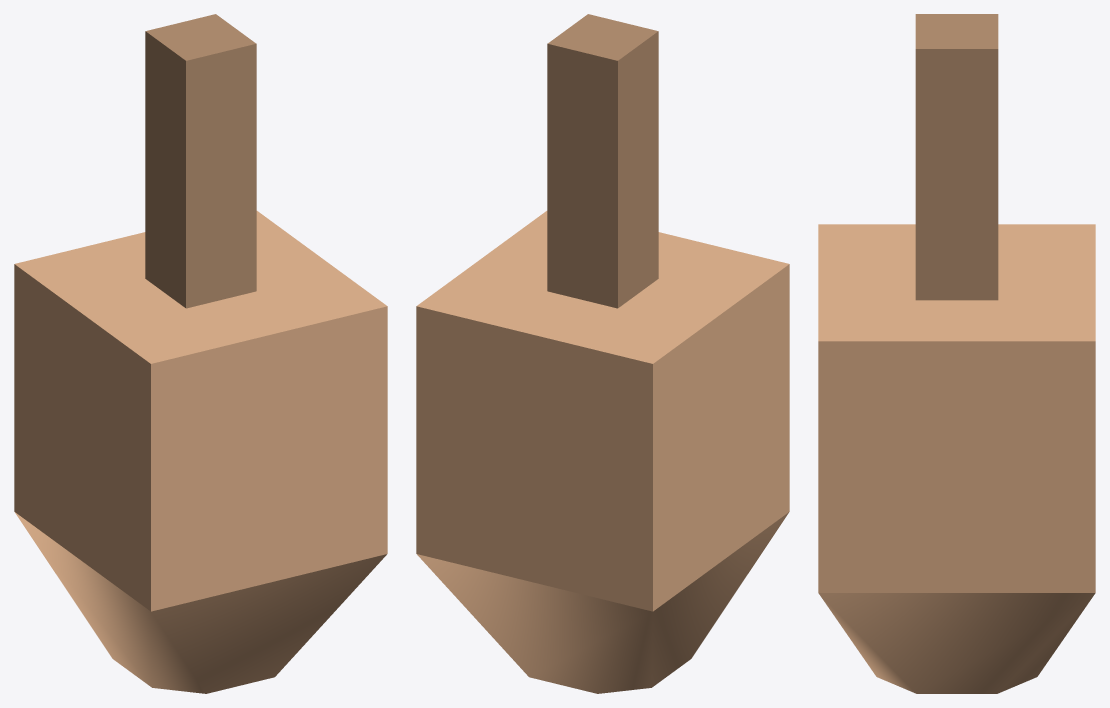
File: hanukkahDreidel.glb
3 views of the same model, side by side, from view 1: azimuth 30°, elevation 25°; view 2: azimuth 150°, elevation 25°; view 3: azimuth 270°, elevation 25° (orthographic).
Visible parts, largest first — view 1: hanukkahDreidel; view 2: hanukkahDreidel; view 3: hanukkahDreidel.
Boxes of the visible parts, x1,y1,x2,y2 form: hanukkahDreidel: (14,14,387,693); hanukkahDreidel: (416,14,789,693); hanukkahDreidel: (818,14,1095,693).
Bounding box in the file's own units: 0.074 × 0.185 × 0.074.
